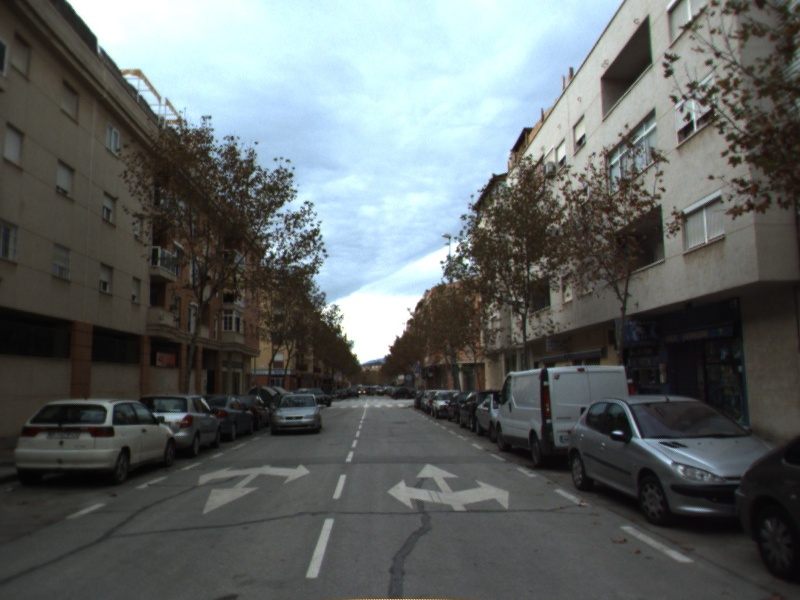STRAIGHT_LEFT_RIGHT: (385, 462, 511, 513)
